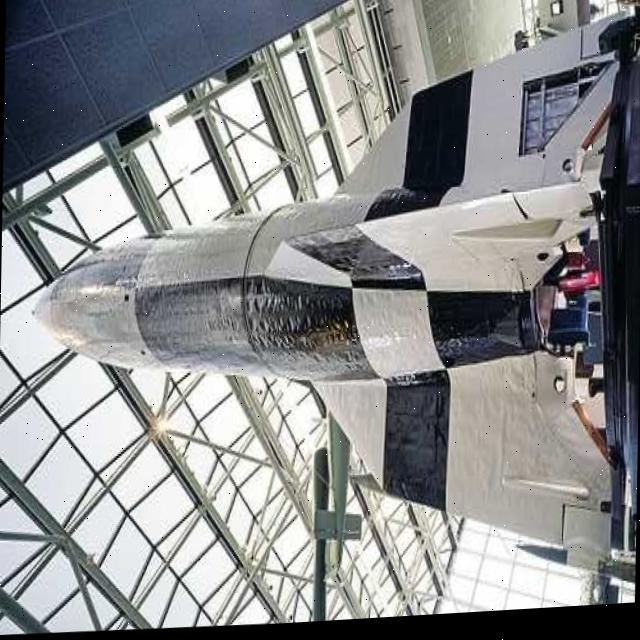missile: (18, 0, 630, 591)
